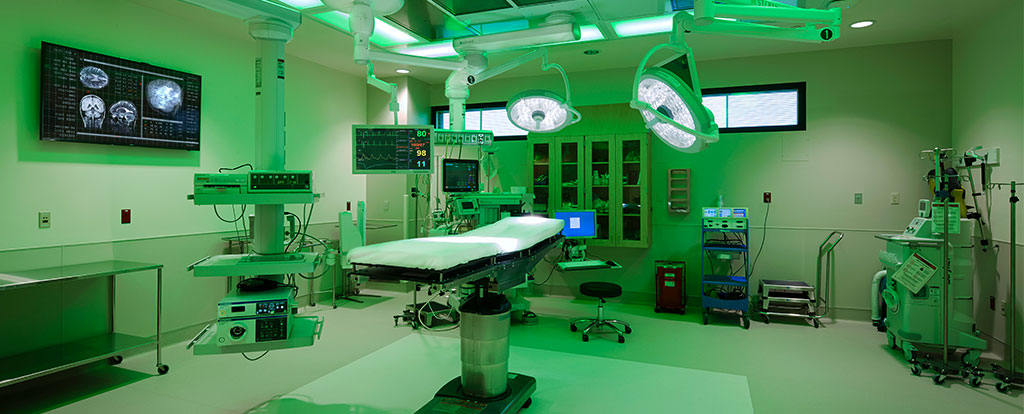TV: (34, 54, 202, 157)
bedside_monitor: (350, 123, 435, 177), (444, 159, 480, 190)
cabinet: (521, 138, 648, 245)
chair: (568, 281, 632, 343)
computer: (554, 209, 598, 239)
electrosurgical_unit: (249, 171, 312, 194), (701, 217, 748, 233)
iv_pole: (921, 174, 970, 378), (988, 178, 1020, 391), (919, 146, 958, 200)
keyboard: (562, 259, 610, 270)
mouse: (606, 259, 618, 267)
operating_bed: (347, 216, 584, 414)
surgical_light: (629, 56, 719, 156), (506, 90, 581, 133)
utility_cart: (1, 261, 170, 393), (765, 227, 847, 342), (697, 223, 755, 327)
